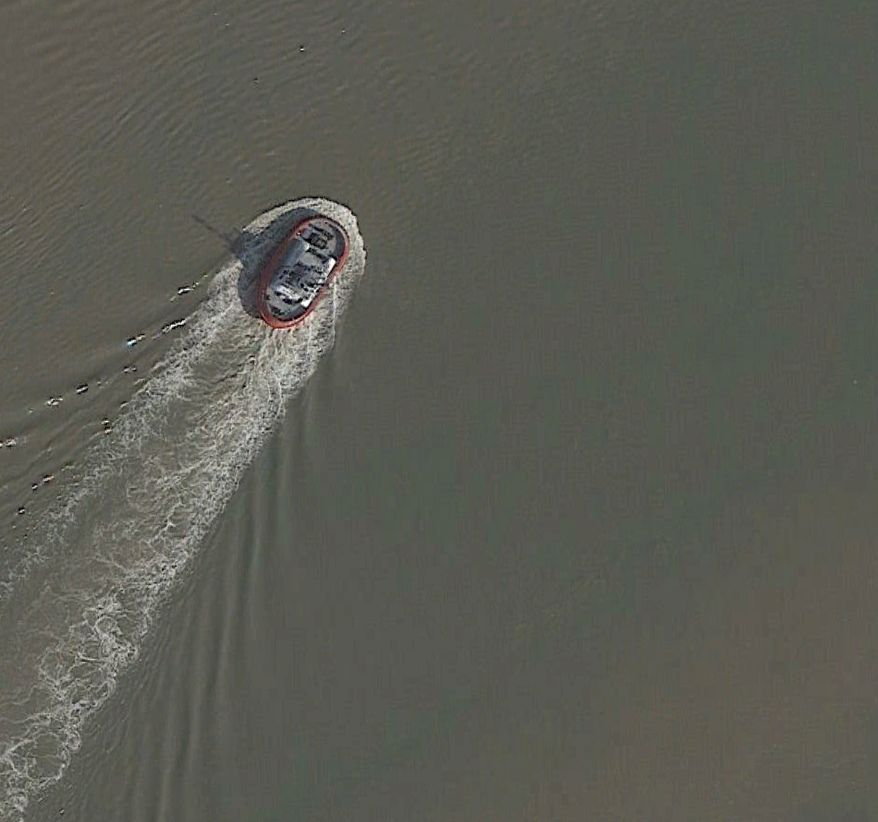boat: (249, 214, 358, 333)
